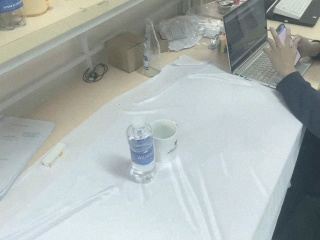bottle: (126, 123, 156, 184), (143, 19, 161, 78), (1, 1, 27, 31)
box: (106, 30, 151, 75)
cup: (150, 119, 179, 163)
